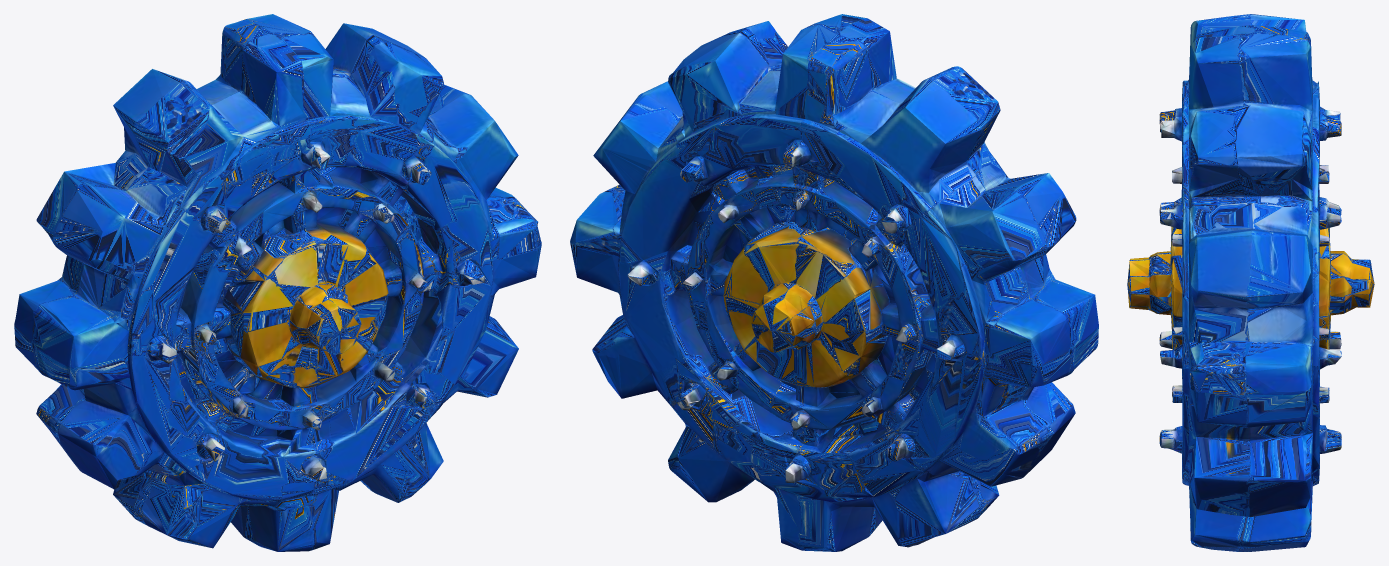
3 renders of one model, left to right at view 1: azimuth 30°, elevation 25°; view 2: azimuth 150°, elevation 25°; view 3: azimuth 270°, elevation 25°, orthographic. The views are drawn at different scales.
Bounding box in the file's own units: 0.9792 × 0.9796 × 0.4433.
1 material, 1 textured.
